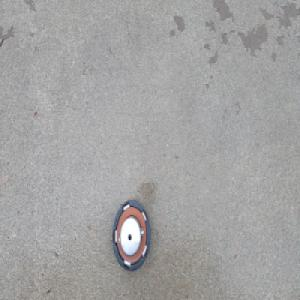FuelCap: (112, 195, 153, 270)
